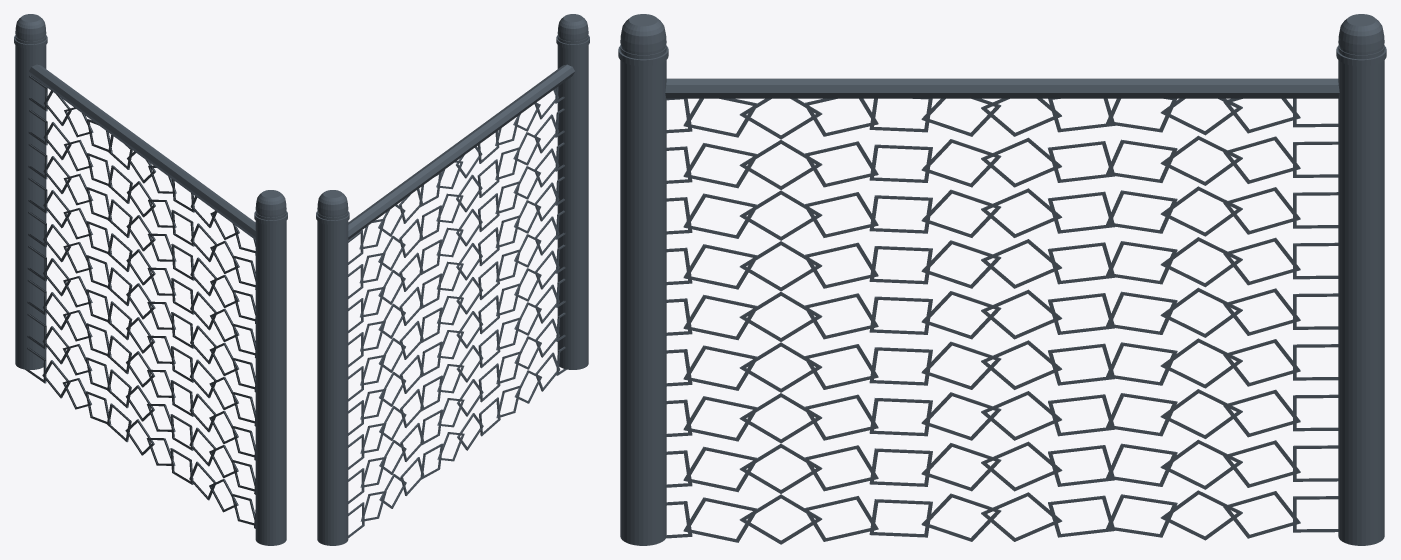
The model's file is ChainFence.fbx.
3 renders of one model, left to right at view 1: azimuth 30°, elevation 25°; view 2: azimuth 150°, elevation 25°; view 3: azimuth 270°, elevation 25°, orthographic. The views are drawn at different scales.
Parts seen in each view (by area): view 1: ChainFence; view 2: ChainFence; view 3: ChainFence.
Boxes of the visible parts, left/top/right/bottom form: ChainFence: left=14, top=14, right=287, bottom=545; ChainFence: left=316, top=14, right=589, bottom=545; ChainFence: left=618, top=14, right=1386, bottom=545.
Size of the model in its own units: 27.57 by 318 by 421.
